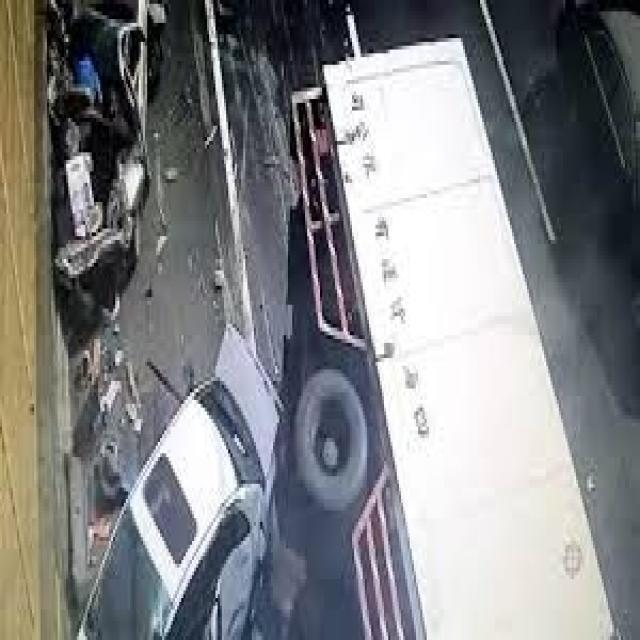accident: (267, 32, 629, 640), (58, 346, 285, 640), (38, 0, 178, 286)
